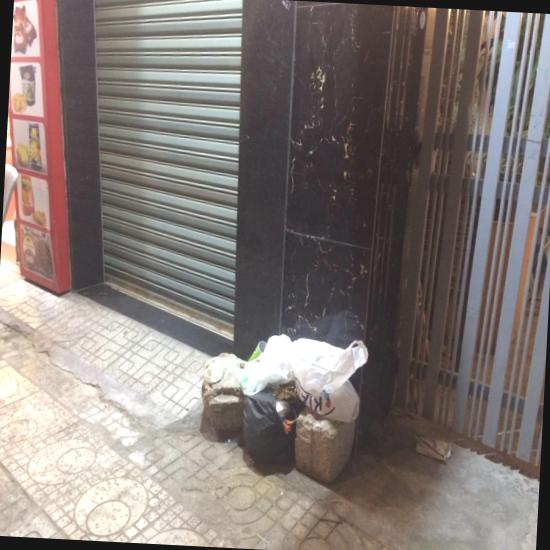Garbage bag: (241, 389, 295, 467)
Single-use carrier bag: (292, 338, 368, 424), (240, 336, 294, 395)
Unlabeled litter: (413, 437, 452, 461), (249, 340, 267, 360), (276, 402, 292, 419)
